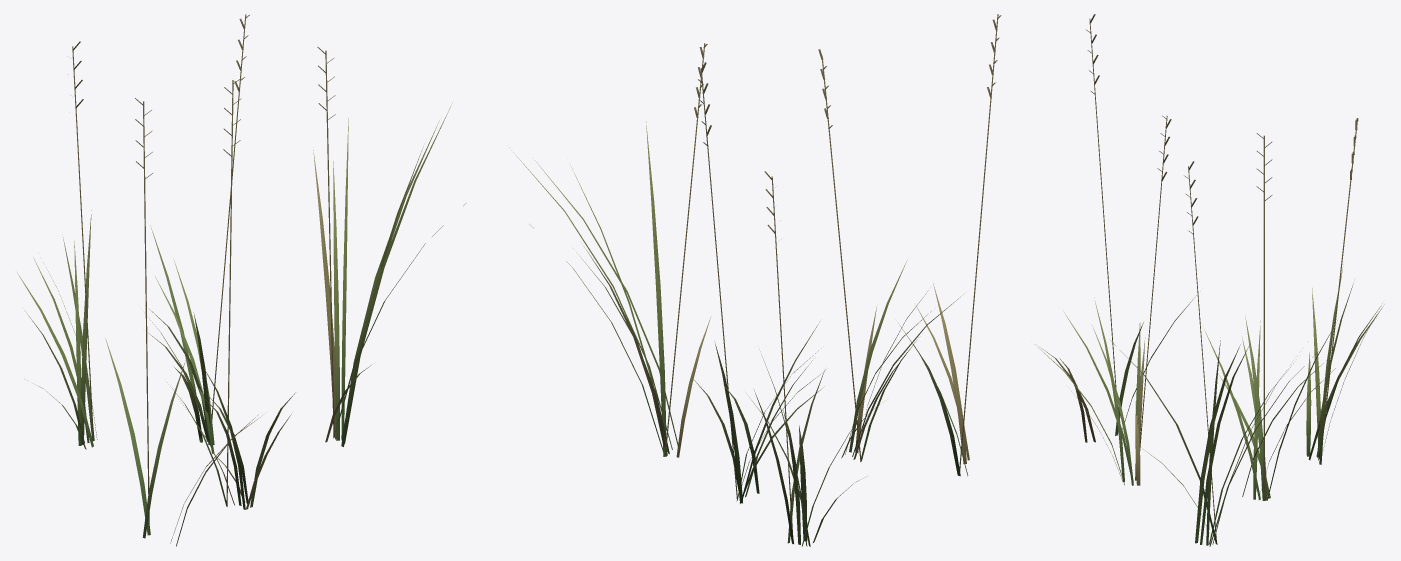
The model's file is meadow_seedheads.gltf.
The picture shows the model from 3 angles, left to right: view 1: azimuth 30°, elevation 25°; view 2: azimuth 150°, elevation 25°; view 3: azimuth 270°, elevation 25°; orthographic projection. The views are drawn at different scales.
Visible parts, largest first — view 1: meadow_seedheads; view 2: meadow_seedheads; view 3: meadow_seedheads.
Part boxes in pixels (x1,y1,x2,y2): meadow_seedheads: [17, 14, 465, 546]; meadow_seedheads: [509, 14, 1001, 546]; meadow_seedheads: [1034, 14, 1384, 546].
Bounding box in the file's own units: 1.36 × 1.45 × 1.13.
Materials: 3 (3 with a texture image).
